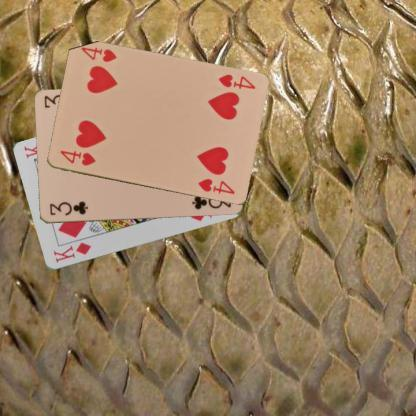3c: (47, 198, 89, 216)
4h: (58, 147, 96, 168), (215, 72, 256, 90)
Kd: (50, 240, 92, 264)
